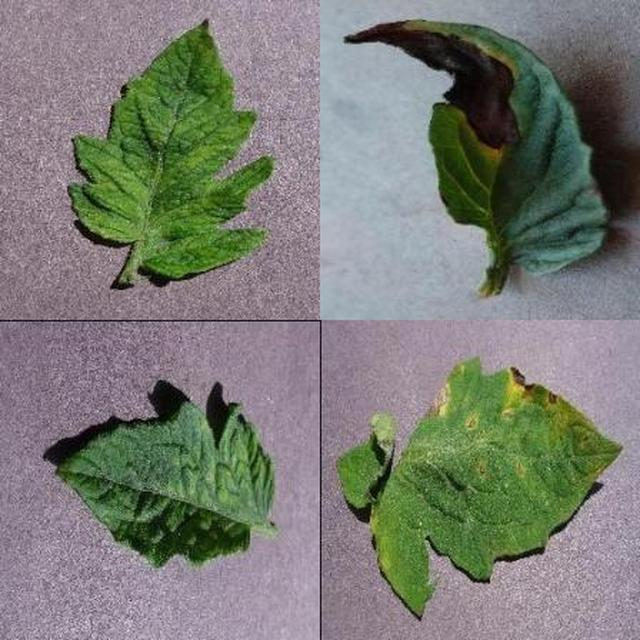Mosaic Virus Leaf: (236, 210, 640, 640)
